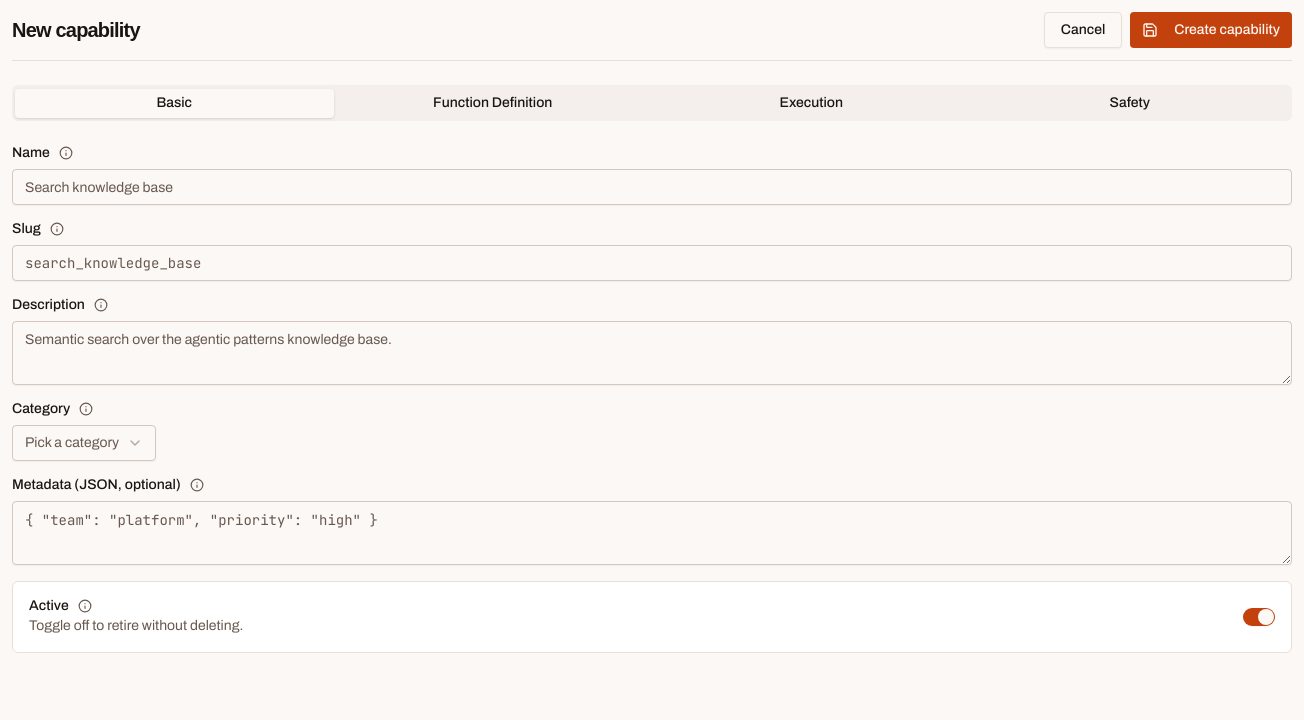
Test case: CapabilityForm — Basic tab › slug auto-generation › slug auto-populates from name on typing
This screenshot has width=1304, height=720.
Type "My Knowledge Search" into the field labelled "Name" at (652, 187), box [12,169,1292,205]
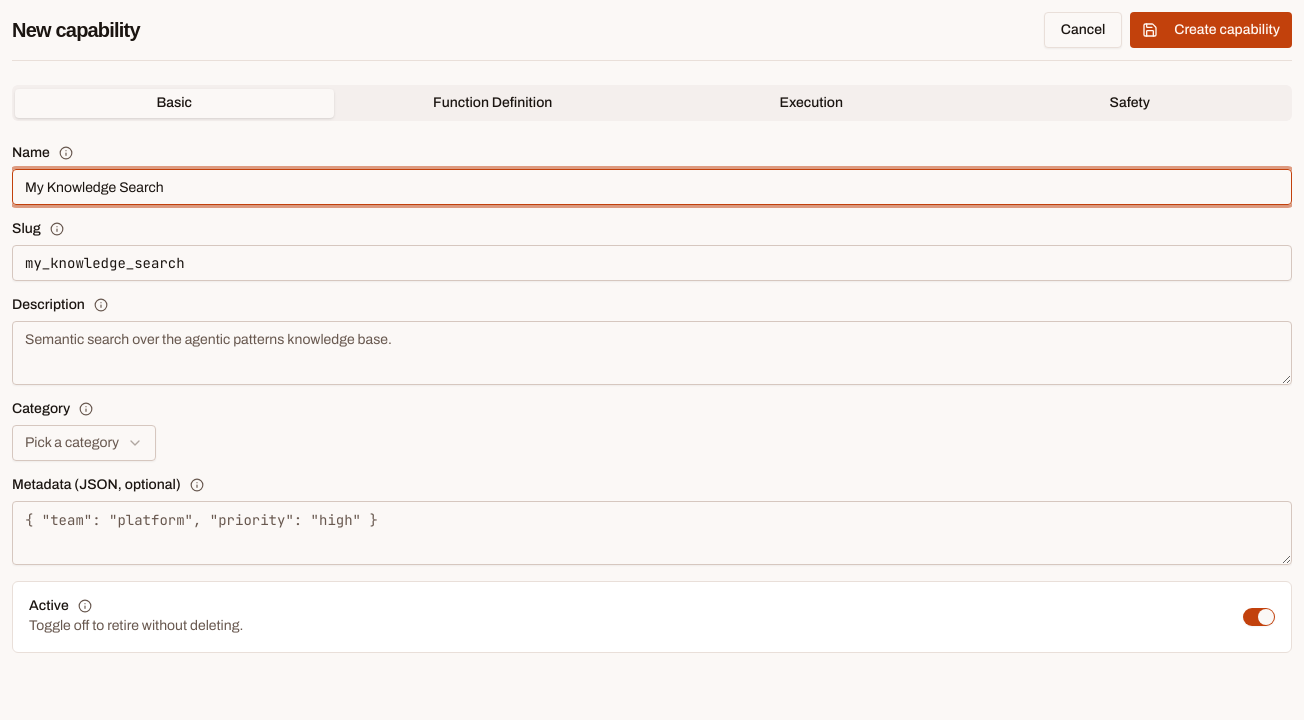
Result: the field labelled "Slug" holds "my_knowledge_search" at [12,245,1292,281]
